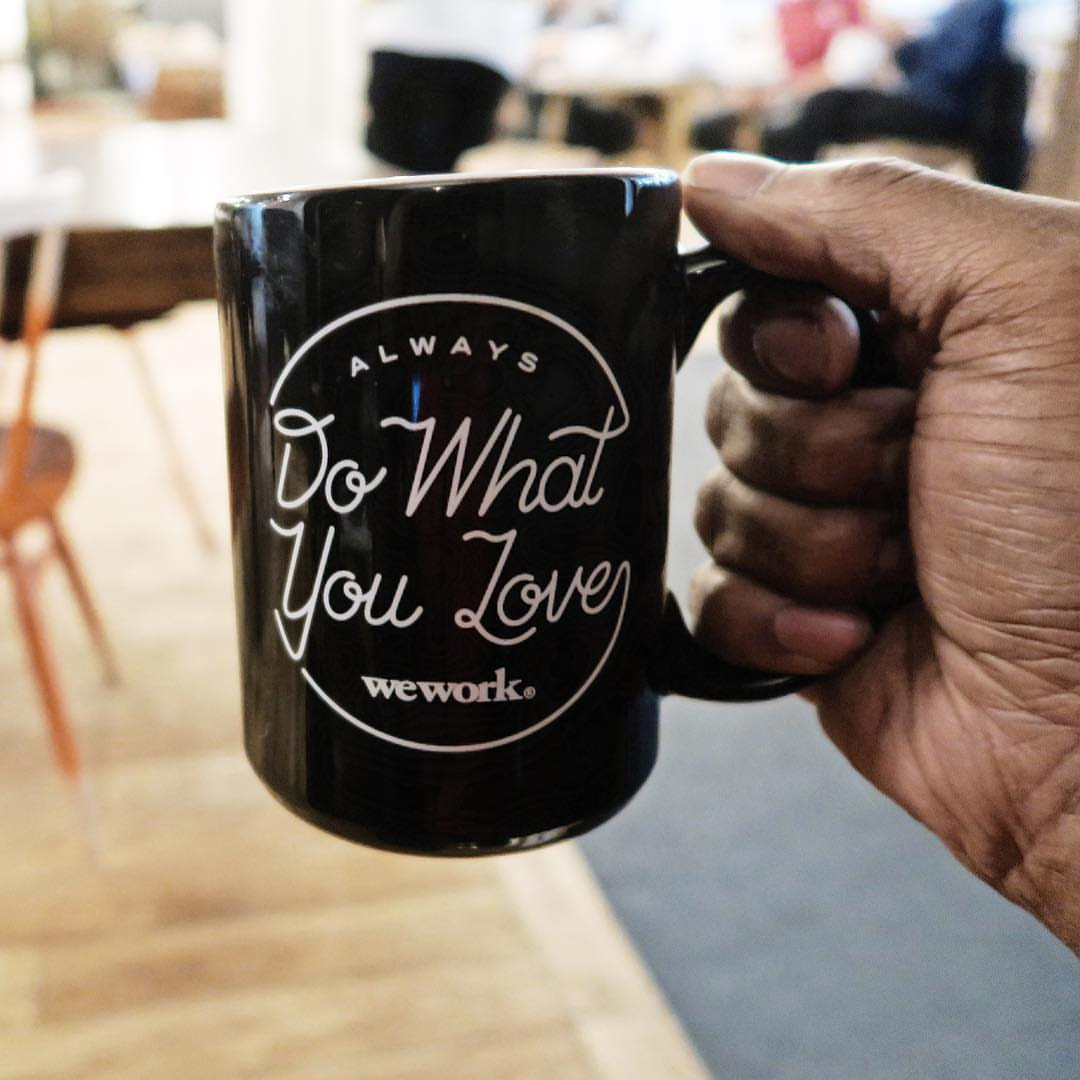wework: (358, 662, 524, 706)
